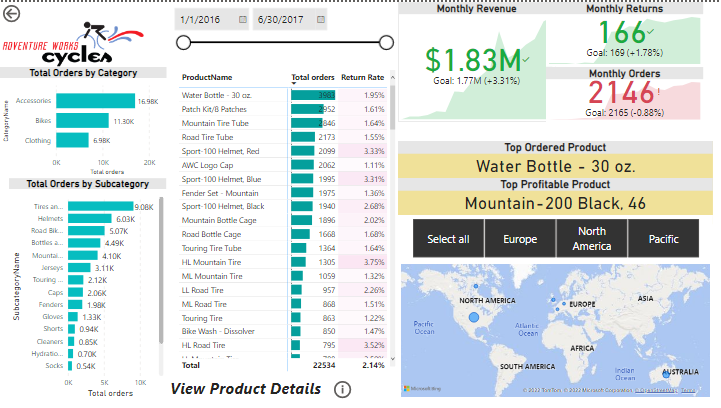

The dashboard page shown, as its layout file describes it:
{"tool":"powerbi","page":{"name":"Exact Summery","canvas":[1280,720],"ordinal":0},"visuals":[{"type":"image","box":[0,0,256,144],"z":0},{"type":"clusteredBarChart","title":"Total Orders by Subcategory","fields":{"Category":["AW_Product_Subcategories_Lookup.SubcategoryName"],"Y":["AW SALES.Total orders"]},"box":[16,304,272,384],"z":1000},{"type":"actionButton","box":[0,0,100,40],"z":2000},{"type":"clusteredBarChart","title":"Total Orders by Category","fields":{"Category":["AW_Product_Categories_Lookup.CategoryName","AW_Product_Subcategories_Lookup.SubcategoryName"],"Y":["AW SALES.Total orders"]},"box":[0,112,288,192],"z":3000},{"type":"pivotTable","fields":{"Rows":["AW_Product_Categories_Lookup.CategoryName","AW_Product_Subcategories_Lookup.SubcategoryName","AW_Product_Lookup.ProductName"],"Values":["AW SALES.Total orders","AW_Returns.Return Rate"]},"box":[304.6,111.8,384,531.1],"z":4000},{"type":"slicer","fields":{"Values":["AW_Calendar_Lookup.Date"]},"box":[288,0,400,112],"z":5000},{"type":"kpi","title":"Monthly Revenue","fields":{"Indicator":["AW SALES.Total Revenue "],"Goal":["AW SALES.Perv Month Revenue"],"TrendLine":["AW_Calendar_Lookup.Start of Month"]},"box":[688,0,272,208],"z":6000},{"type":"kpi","title":"Monthly Returns","fields":{"TrendLine":["AW_Calendar_Lookup.Start of Month"],"Indicator":["AW_Returns.Total Returns"],"Goal":["AW_Returns.Perv Month Returns"]},"box":[944,0,272,112],"z":7000},{"type":"kpi","title":"Monthly Orders","fields":{"TrendLine":["AW_Calendar_Lookup.Start of Month"],"Indicator":["AW SALES.Total orders"],"Goal":["AW SALES.Perv Month Order"]},"box":[944,112,272,96],"z":8000},{"type":"card","title":"Top Ordered Product","fields":{"Values":["Min(AW_Product_Lookup.ProductName)"]},"box":[688,240,544,80],"z":9000},{"type":"card","title":"Top Profitable Product","fields":{"Values":["Min(AW_Product_Lookup.ProductName)"]},"box":[688,304,544,80],"z":10000},{"type":"map","fields":{"Category":["Aw_Territories_Lookup.Country"],"Size":["AW SALES.Total orders"]},"box":[688,448,544,240],"z":11000},{"type":"slicer","fields":{"Values":["Aw_Territories_Lookup.Continent"]},"box":[688,368,544,80],"z":12000},{"type":"textbox","box":[288.4,642.9,384,58.9],"z":13000},{"type":"actionButton","box":[572.3,648.8,100,39.7],"z":14000}]}

Visuals, with their boxes in screenshot pixels (x1, y1, x2, y2), scaled from the page's 1280x720 canvas onto the 721x408 screenshot:
image: box(0, 0, 144, 82)
"Total Orders by Subcategory" clusteredBarChart: box(9, 172, 162, 390)
actionButton: box(0, 0, 56, 23)
"Total Orders by Category" clusteredBarChart: box(0, 63, 162, 172)
pivotTable - AW_Product_Categories_Lookup.CategoryName x AW_Product_Subcategories_Lookup.SubcategoryName: box(172, 63, 388, 364)
slicer - AW_Calendar_Lookup.Date: box(162, 0, 388, 63)
"Monthly Revenue" kpi: box(388, 0, 541, 118)
"Monthly Returns" kpi: box(532, 0, 685, 63)
"Monthly Orders" kpi: box(532, 63, 685, 118)
"Top Ordered Product" card: box(388, 136, 694, 181)
"Top Profitable Product" card: box(388, 172, 694, 218)
map - Aw_Territories_Lookup.Country x AW SALES.Total orders: box(388, 254, 694, 390)
slicer - Aw_Territories_Lookup.Continent: box(388, 209, 694, 254)
textbox: box(162, 364, 379, 398)
actionButton: box(322, 368, 379, 390)
